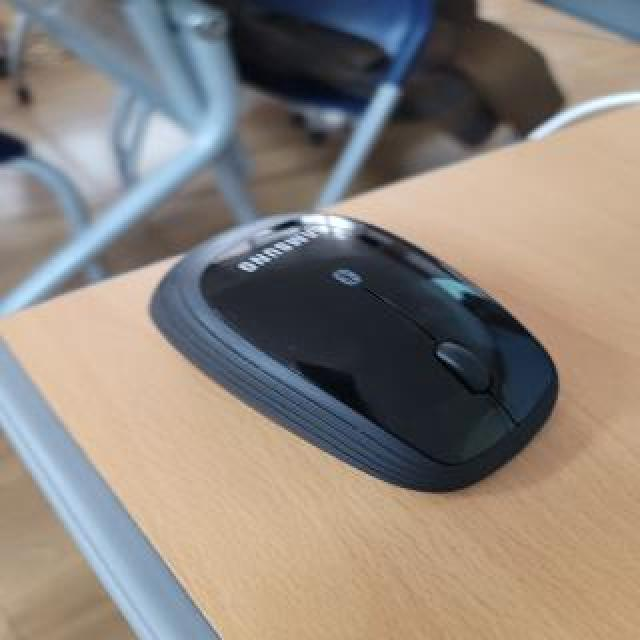mouse: (142, 204, 608, 514)
